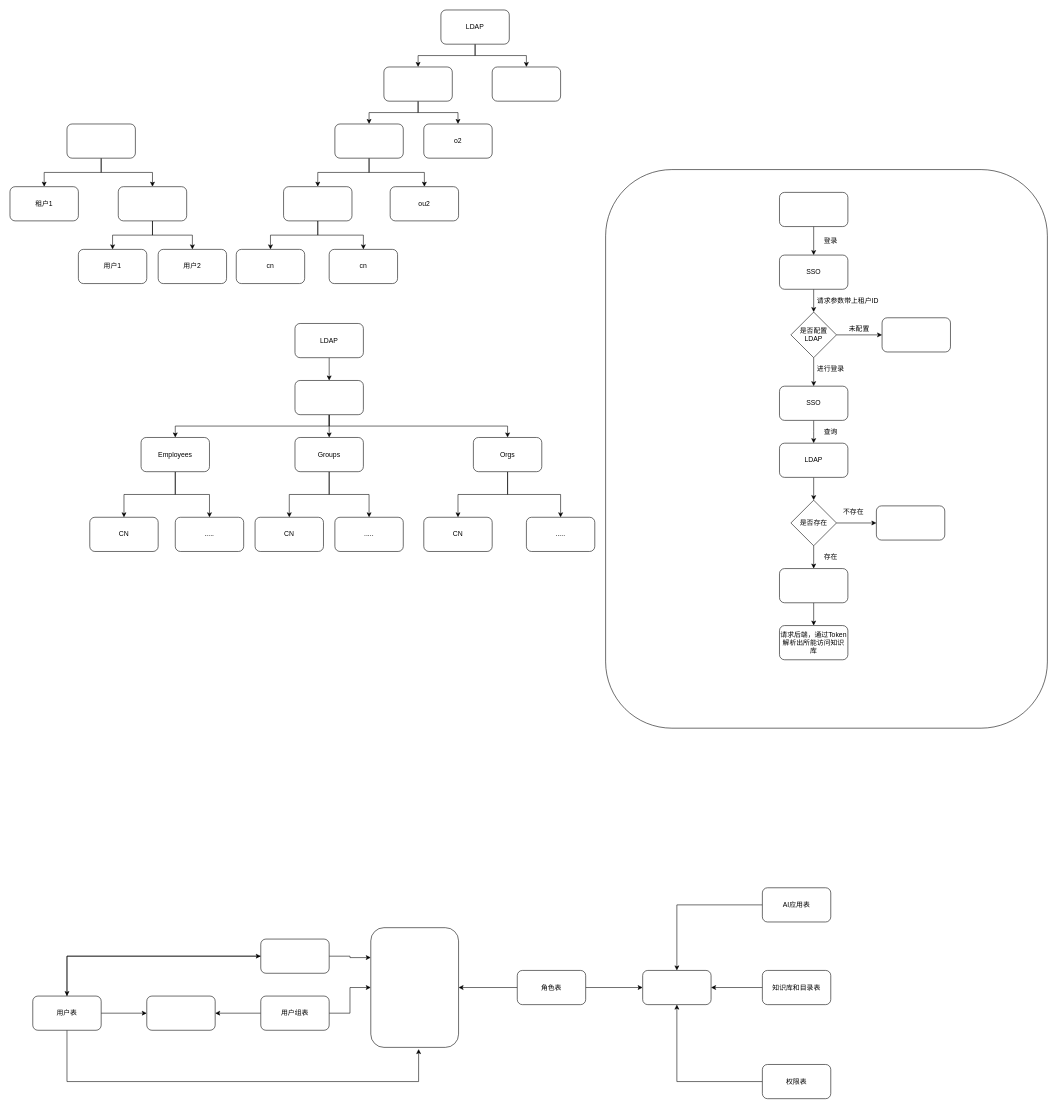
This 1057x1109 diagram has some shape labels left out. Each missing label, with the centre of its shape:
"AI应用" goes at [813,209].
"DC" goes at [328,397].
"dc1" goes at [417,83].
"dc2" goes at [526,83].
"o1" goes at [368,140].
"ou1" goes at [317,203].
"Wenxue" goes at [100,140].
"无需登录" goes at [916,334].
"根据当前用户信息，生成Token" goes at [813,585].
"用户-用户组关联表" goes at [180,1013].
"登录失败" goes at [910,522].
"租户2" goes at [152,203].
"组织表" goes at [294,956].
"角色关联表" goes at [414,987].
"角色权限资源关联表" goes at [676,987].
